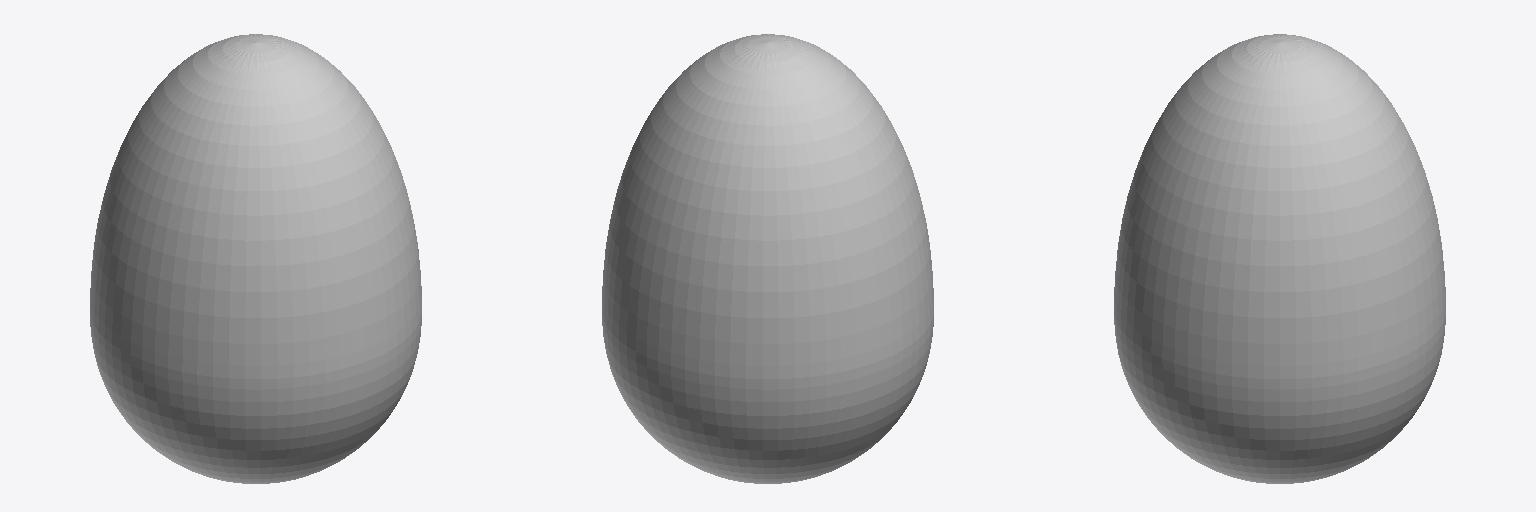
File: egg.obj
The picture shows the model from 3 angles: view 1: azimuth 30°, elevation 25°; view 2: azimuth 150°, elevation 25°; view 3: azimuth 270°, elevation 25°; orthographic projection.
Parts seen in each view (by area): view 1: Sphere.001; view 2: Sphere.001; view 3: Sphere.001.
Part boxes in pixels (bbox=[...]): Sphere.001: bbox=[90, 34, 421, 483]; Sphere.001: bbox=[602, 34, 933, 483]; Sphere.001: bbox=[1114, 34, 1445, 483].
Size of the model in its own units: 0.7741 by 1.1 by 0.7741.